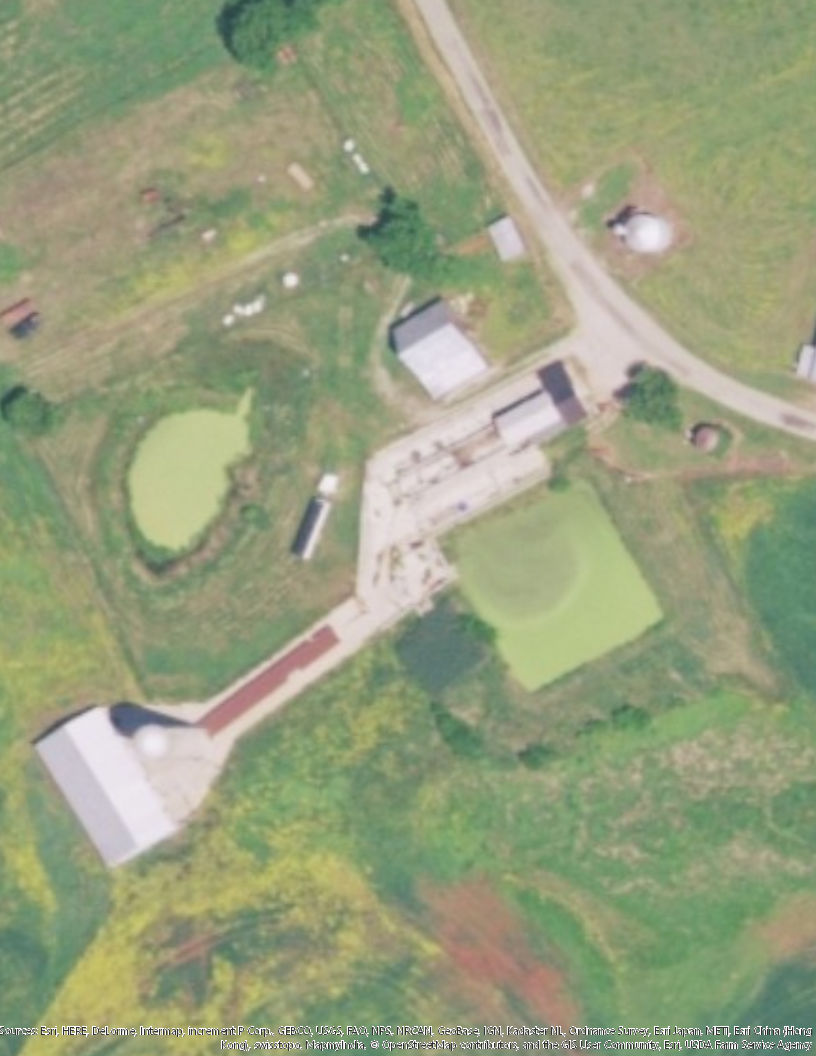cafo: (30, 709, 182, 878)
